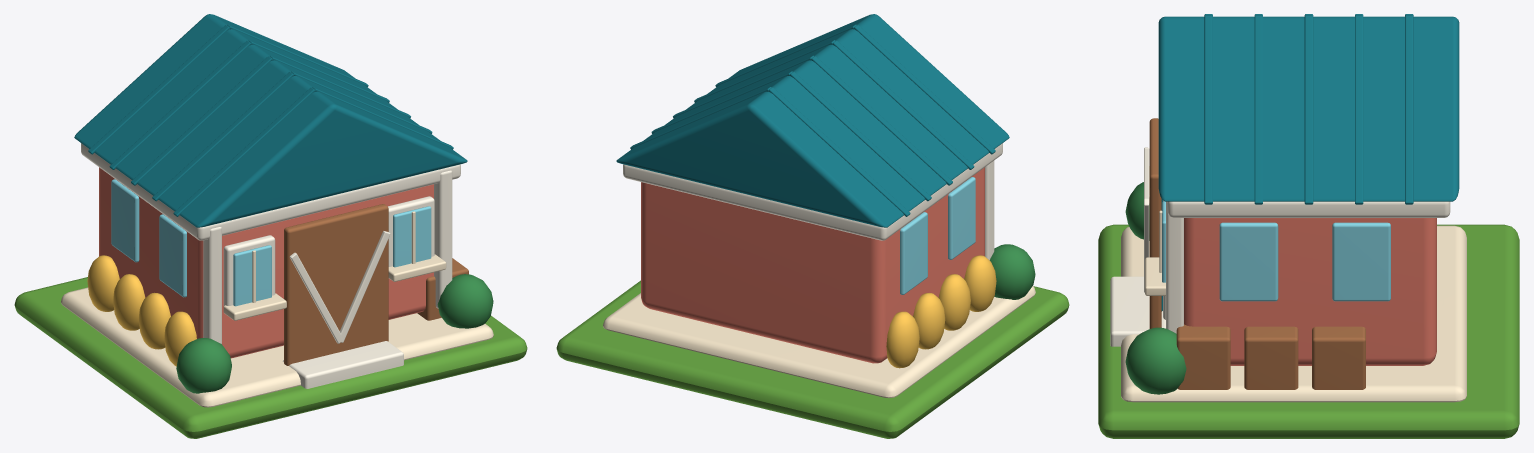
Rendered from farm.fbx.
The picture shows the model from 3 angles, left to right: view 1: azimuth 30°, elevation 25°; view 2: azimuth 150°, elevation 25°; view 3: azimuth 270°, elevation 25°; orthographic projection. The views are drawn at different scales.
Visible parts, largest first — view 1: Roof.001, Raised garden plot.001, Barn door, Plaster facade.001, Paved foundation.001, Cornice.001, Entrance step.001, Clipped shrub.002, Clipped shrub.003, Corner trim.003, Corner trim.002, Side window.005 (+19 smaller); view 2: Roof.001, Plaster facade.001, Raised garden plot.001, Paved foundation.001, Cornice.001, Clipped shrub.002, Side window.004, Side window.005, Cacao harvest.003, Cacao harvest.002, Cacao harvest, Cacao harvest.001 (+6 smaller); view 3: Roof.001, Raised garden plot.001, Plaster facade.001, Paved foundation.001, Side window.006, Side window.007, Cornice.001, Produce crate.001, Produce crate.002, Produce crate, Clipped shrub.003, Entrance step.001 (+9 smaller).
Part boxes in pixels (x1=…): Roof.001: x1=74, y1=14, x2=467, y2=227; Raised garden plot.001: x1=14, y1=277, x2=527, y2=438; Barn door: x1=284, y1=204, x2=388, y2=365; Plaster facade.001: x1=99, y1=167, x2=433, y2=358; Paved foundation.001: x1=61, y1=287, x2=493, y2=407; Cornice.001: x1=81, y1=143, x2=460, y2=240; Entrance step.001: x1=283, y1=341, x2=403, y2=388; Clipped shrub.002: x1=176, y1=338, x2=231, y2=393; Clipped shrub.003: x1=437, y1=274, x2=493, y2=328; Corner trim.003: x1=434, y1=170, x2=452, y2=308; Corner trim.002: x1=203, y1=227, x2=221, y2=343; Side window.005: x1=111, y1=179, x2=139, y2=262; Roof.001: x1=616, y1=14, x2=1009, y2=227; Plaster facade.001: x1=641, y1=167, x2=984, y2=363; Raised garden plot.001: x1=556, y1=280, x2=1069, y2=438; Paved foundation.001: x1=603, y1=286, x2=1035, y2=398; Cornice.001: x1=623, y1=143, x2=1002, y2=240; Clipped shrub.002: x1=990, y1=244, x2=1035, y2=299; Side window.004: x1=948, y1=177, x2=975, y2=259; Side window.005: x1=900, y1=212, x2=927, y2=294; Cacao harvest.003: x1=886, y1=311, x2=919, y2=368; Cacao harvest.002: x1=913, y1=292, x2=945, y2=349; Cacao harvest: x1=964, y1=255, x2=996, y2=311; Cacao harvest.001: x1=938, y1=274, x2=970, y2=330; Roof.001: x1=1158, y1=16, x2=1459, y2=201; Raised garden plot.001: x1=1098, y1=224, x2=1519, y2=438; Plaster facade.001: x1=1184, y1=218, x2=1436, y2=365; Paved foundation.001: x1=1121, y1=225, x2=1466, y2=402; Side window.006: x1=1219, y1=222, x2=1278, y2=301; Side window.007: x1=1332, y1=222, x2=1390, y2=301; Cornice.001: x1=1167, y1=201, x2=1450, y2=217; Produce crate.001: x1=1244, y1=326, x2=1298, y2=389; Produce crate.002: x1=1312, y1=326, x2=1365, y2=389; Produce crate: x1=1176, y1=324, x2=1230, y2=389; Clipped shrub.003: x1=1125, y1=327, x2=1186, y2=394; Entrance step.001: x1=1110, y1=276, x2=1165, y2=346.
Bounding box in the file's own units: 3.1 × 2.43 × 2.8.
